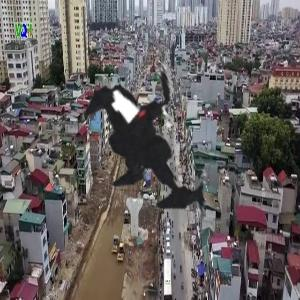drone: (38, 21, 280, 263)
